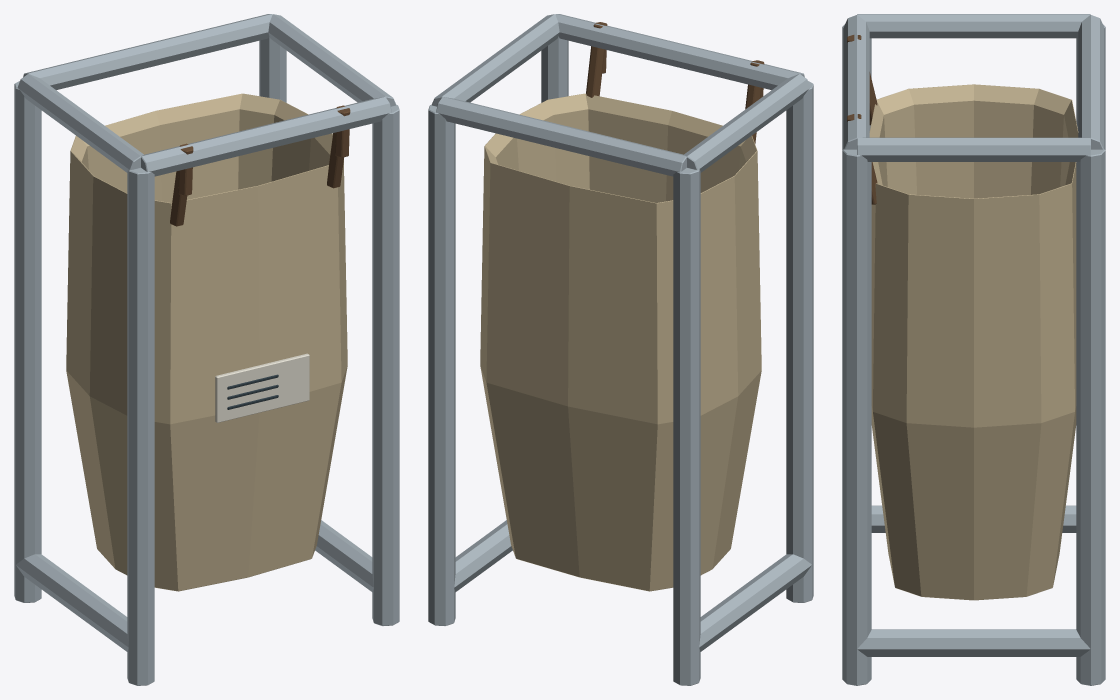
File: b14_mail_sack_sorting_stand.glb
3 renders of one model, left to right at view 1: azimuth 30°, elevation 25°; view 2: azimuth 150°, elevation 25°; view 3: azimuth 270°, elevation 25°, orthographic. The views are drawn at different scales.
Visible parts, largest first — view 1: b14_mail_sack_sorting_stand; view 2: b14_mail_sack_sorting_stand; view 3: b14_mail_sack_sorting_stand.
Part boxes in pixels (left/top/right/bottom): b14_mail_sack_sorting_stand: left=14, top=14, right=399, bottom=685; b14_mail_sack_sorting_stand: left=428, top=14, right=813, bottom=685; b14_mail_sack_sorting_stand: left=842, top=14, right=1105, bottom=685.
Size of the model in its own units: 0.55 by 1.02 by 0.45.
